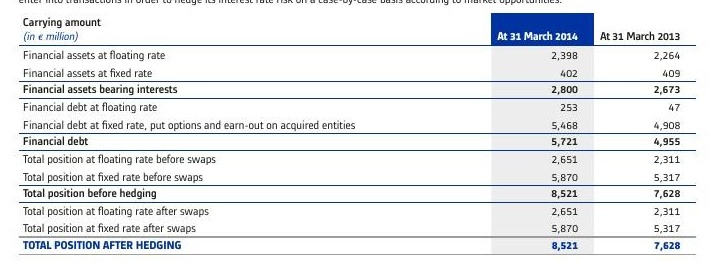table: (0, 0, 711, 274)
